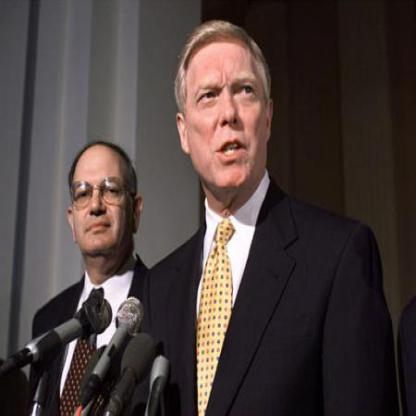face: (185, 23, 269, 191), (71, 140, 134, 257)
